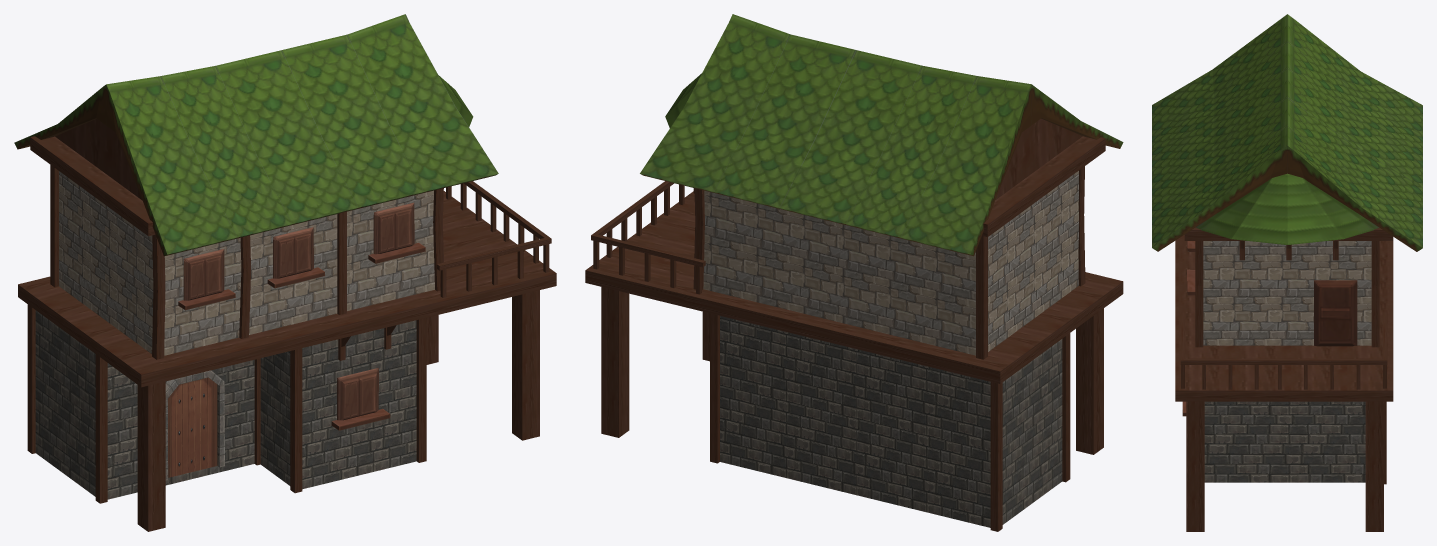
File: OutdoorM_Bldg_B.FBX
The picture shows the model from 3 angles, left to right: view 1: azimuth 30°, elevation 25°; view 2: azimuth 150°, elevation 25°; view 3: azimuth 270°, elevation 25°; orthographic projection. The views are drawn at different scales.
Visible parts, largest first — view 1: OutdoorM_Bldg_B; view 2: OutdoorM_Bldg_B; view 3: OutdoorM_Bldg_B.
Boxes of the visible parts, box(x1,y1,x2,y2) form: OutdoorM_Bldg_B: box(14, 14, 556, 531); OutdoorM_Bldg_B: box(585, 14, 1123, 531); OutdoorM_Bldg_B: box(1152, 14, 1422, 531).
Bounding box in the file's own units: 87.1 × 80.54 × 55.61.
